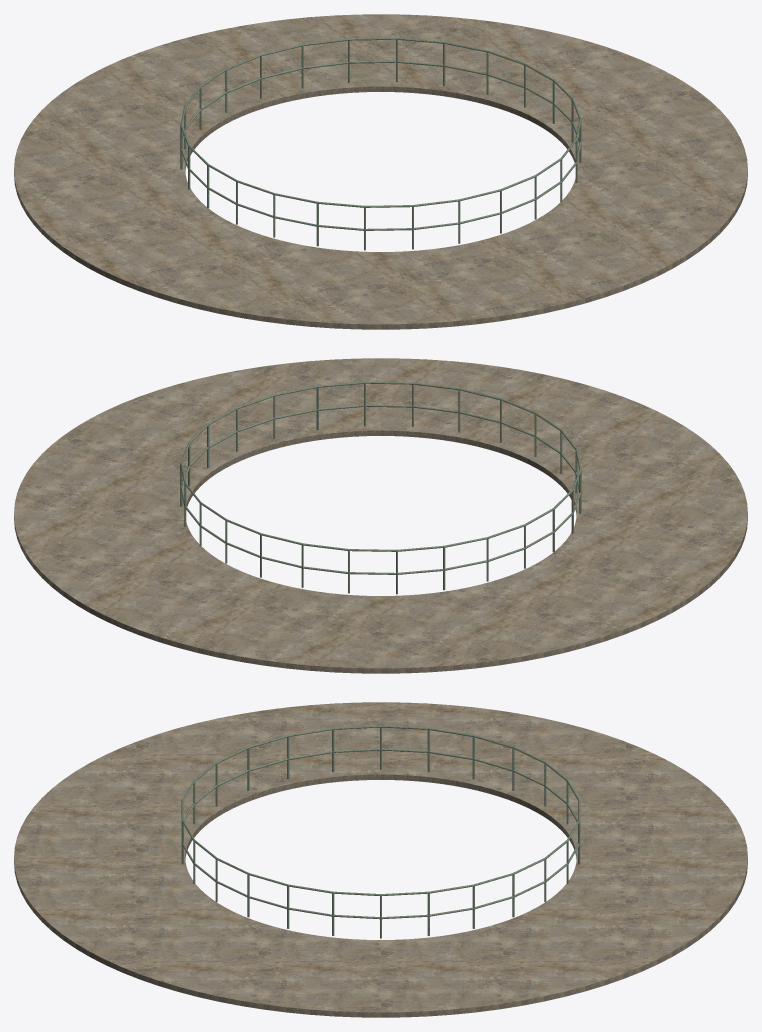
Rendered from silo-annular-deck.gltf.
3 views of the same model, one above another, from view 1: azimuth 30°, elevation 25°; view 2: azimuth 150°, elevation 25°; view 3: azimuth 270°, elevation 25° (orthographic).
Visible parts, largest first — view 1: component-floor-22-floor-0, component-railing-22-seafoam-1; view 2: component-floor-22-floor-0, component-railing-22-seafoam-1; view 3: component-floor-22-floor-0, component-railing-22-seafoam-1.
Boxes of the visible parts, x1=… form: component-floor-22-floor-0: x1=14, y1=14, x2=747, y2=329; component-railing-22-seafoam-1: x1=180, y1=37, x2=581, y2=250; component-floor-22-floor-0: x1=14, y1=358, x2=747, y2=673; component-railing-22-seafoam-1: x1=180, y1=381, x2=581, y2=594; component-floor-22-floor-0: x1=14, y1=702, x2=747, y2=1017; component-railing-22-seafoam-1: x1=181, y1=725, x2=580, y2=938.
Size of the model in its own units: 15 by 1.19 by 15.
2 materials, 2 textured.
